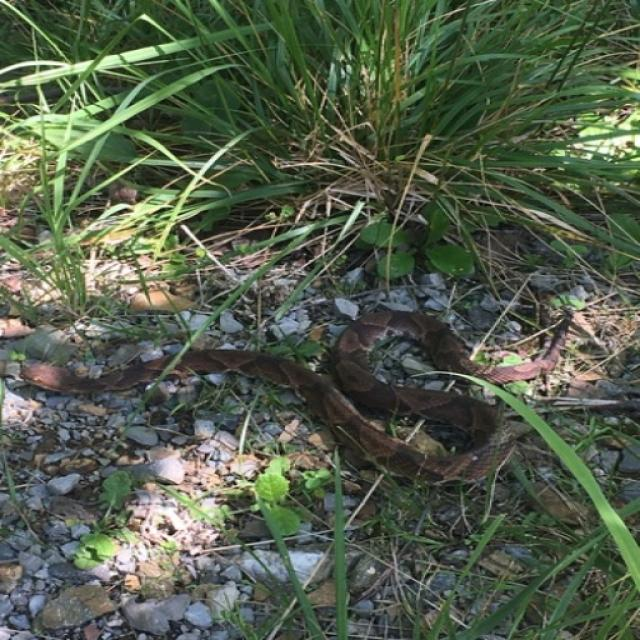snake: (19, 280, 594, 507)
